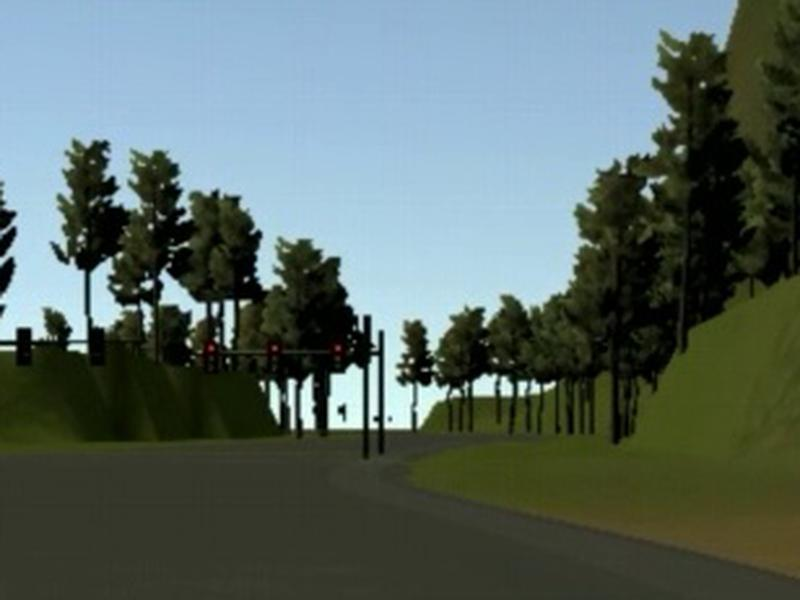Red: (266, 340, 281, 372), (330, 342, 344, 374), (205, 341, 218, 374)
